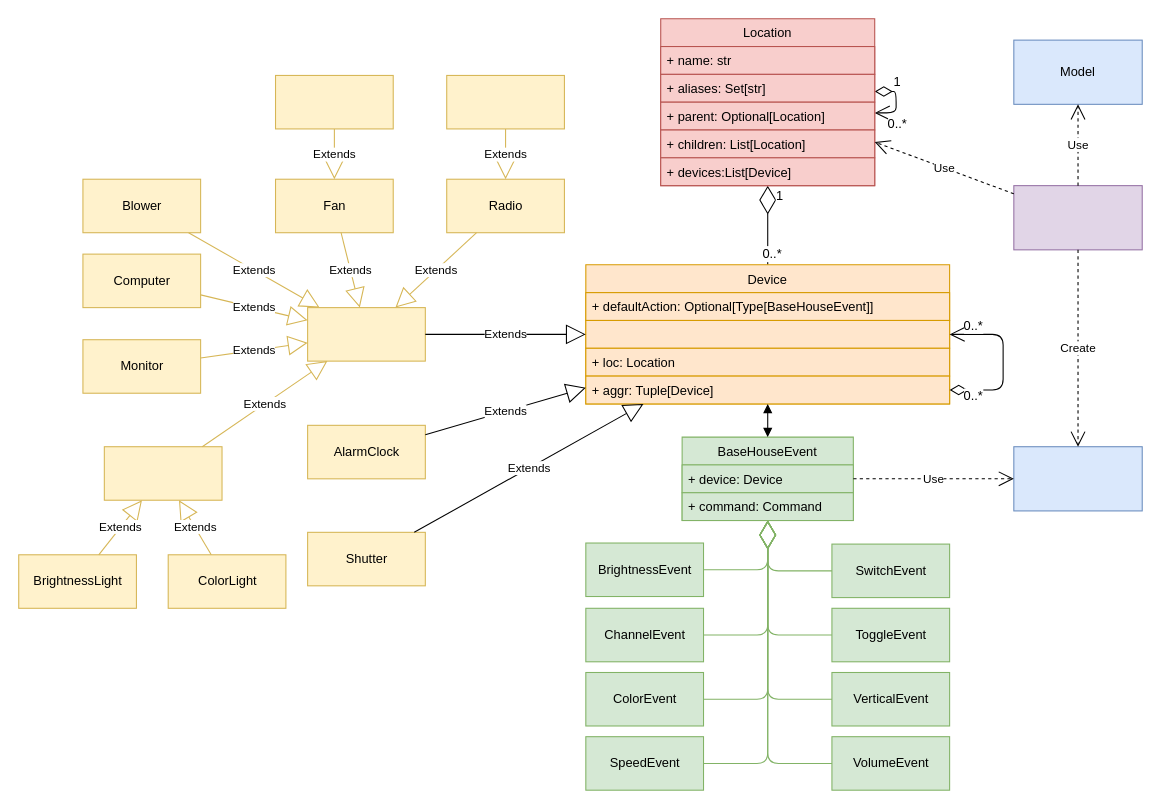
This 1161x810 diagram has some shape labels left out. Each missing label, with the centre of its shape:
+ actions: List[Type[BaseHouseEvent]]: (767,333)
Command: (1077,478)
Light: (162,473)
Recognizer: (1077,217)
SpeedFan: (333,101)
SwitchDevice: (366,334)
TV: (505,101)
